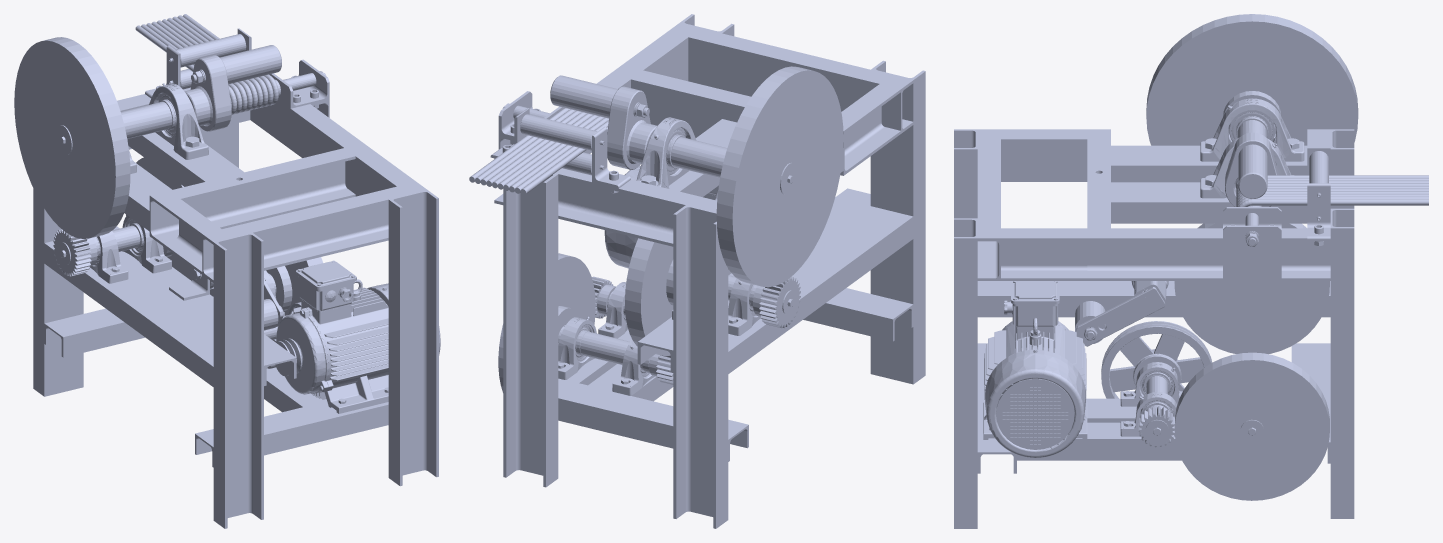
The model's file is rebar-bender-assembly.glb.
3 renders of one model, left to right at view 1: azimuth 30°, elevation 25°; view 2: azimuth 150°, elevation 25°; view 3: azimuth 270°, elevation 25°, orthographic. The views are drawn at different scales.
Parts seen in each view (by area): view 1: DTP share, seams bodies, YG4-135, ChannelLEG_2, ChannelLEG_1, 132S Top.stp, Channel5, Channel2, Channel1, Channel100_4, Channel100_2, Channel100_1, Channel (+10 smaller); view 2: DTP share, seams bodies, YG4-135, Channel1, ChannelLEG, ChannelLEG_1, Channel5, Channel2, Channel100_2, YG4-99 - 50mm, Channel100_4, Channel, YG4-99 (+13 smaller); view 3: DTP share, seams bodies, YG4-135, YG4-99, 132S Top.stp, YG4-99 - 50mm, ChannelLEG, ChannelLEG_2, Channel_1, Channel, _pbt__spa-a2802_02, Channel100_1, Channel5 (+11 smaller).
Boxes of the visible parts, bbox=[...] form: DTP share, seams bodies: bbox=[117, 14, 374, 244]; YG4-135: bbox=[14, 37, 130, 238]; ChannelLEG_2: bbox=[388, 190, 438, 486]; ChannelLEG_1: bbox=[213, 232, 263, 528]; 132S Top.stp: bbox=[267, 260, 440, 413]; Channel5: bbox=[202, 182, 427, 282]; Channel2: bbox=[44, 241, 213, 386]; Channel1: bbox=[33, 189, 83, 396]; Channel100_4: bbox=[195, 401, 388, 467]; Channel100_2: bbox=[44, 287, 213, 357]; Channel100_1: bbox=[113, 226, 296, 385]; Channel: bbox=[161, 199, 221, 274]; DTP share, seams bodies: bbox=[469, 65, 855, 246]; YG4-135: bbox=[716, 66, 843, 287]; Channel1: bbox=[673, 205, 728, 528]; ChannelLEG: bbox=[503, 173, 558, 487]; ChannelLEG_1: bbox=[870, 60, 925, 384]; Channel5: bbox=[667, 23, 913, 133]; Channel2: bbox=[728, 206, 913, 373]; Channel100_2: bbox=[558, 378, 748, 461]; YG4-99 - 50mm: bbox=[625, 238, 673, 356]; Channel100_4: bbox=[803, 288, 913, 341]; Channel: bbox=[841, 84, 900, 166]; YG4-99: bbox=[498, 253, 595, 392]; DTP share, seams bodies: bbox=[1087, 98, 1428, 290]; YG4-135: bbox=[1146, 14, 1358, 145]; YG4-99: bbox=[1174, 352, 1329, 500]; 132S Top.stp: bbox=[983, 281, 1087, 457]; YG4-99 - 50mm: bbox=[1174, 223, 1329, 354]; ChannelLEG: bbox=[1330, 208, 1354, 518]; ChannelLEG_2: bbox=[954, 218, 977, 528]; Channel_1: bbox=[1001, 228, 1087, 280]; Channel: bbox=[1001, 129, 1087, 181]; _pbt__spa-a2802_02: bbox=[1101, 321, 1212, 398]; Channel100_1: bbox=[977, 281, 1330, 317]; Channel5: bbox=[977, 129, 1000, 280].
Size of the model in its own units: 808 by 1117 by 1210.
